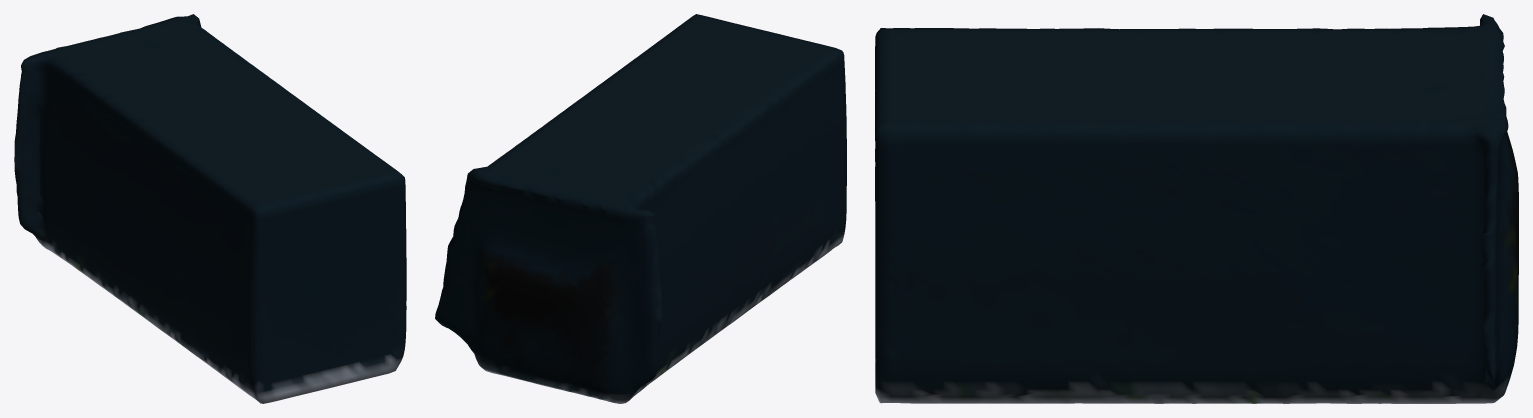
Rendered from a refrigerator.obj.
3 views of the same model, side by side, from view 1: azimuth 30°, elevation 25°; view 2: azimuth 150°, elevation 25°; view 3: azimuth 270°, elevation 25° (orthographic). The views are drawn at different scales.
Bounding box in the file's own units: 0.5691 × 0.488 × 1.
